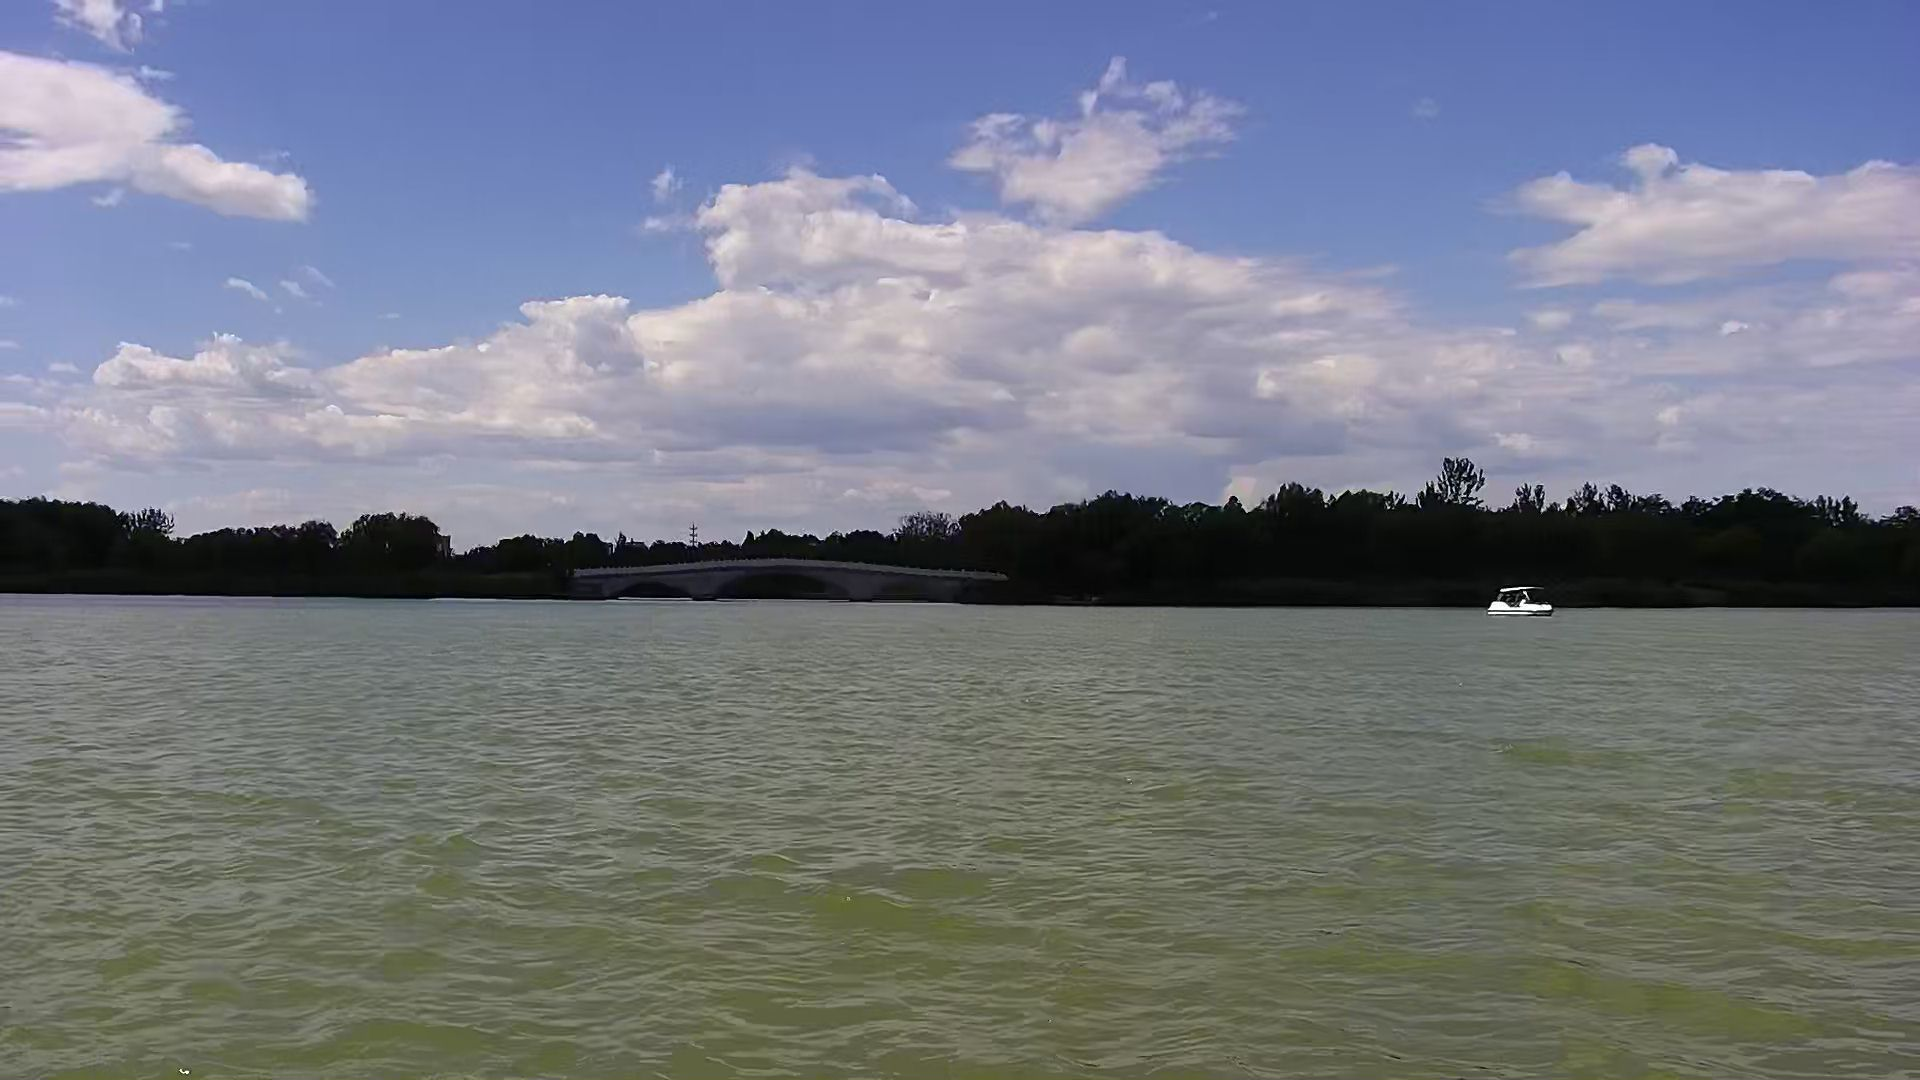boat: (1485, 583, 1553, 616)
bridge: (582, 554, 1001, 608)
